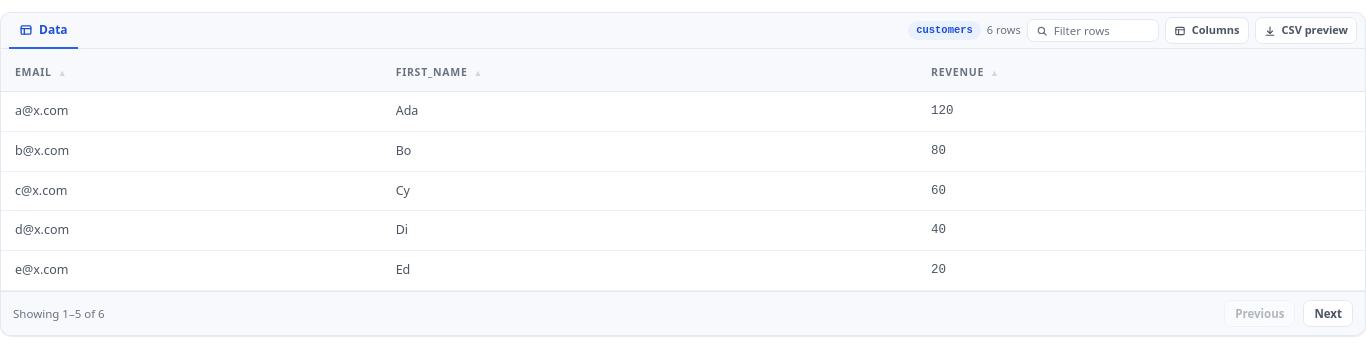
it: ResultCard › hides a column from the columns menu, and keeps the last one
What coordinates should you click on to do the following:
click the button "Columns"
I would click on:
 (1207, 31)
Its box is [1165,17,1249,44].
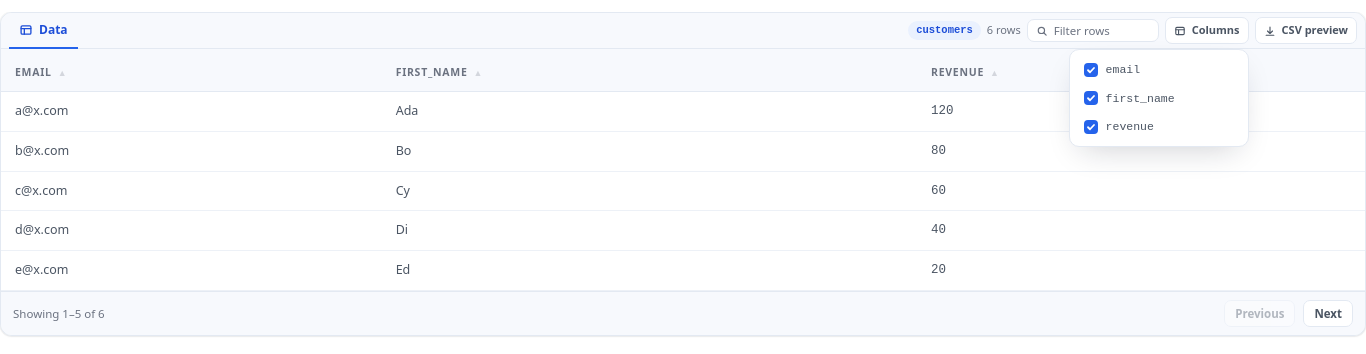
What coordinates should you click on to do the following:
click the button with aria-label "Hide email"
I would click on:
 (1159, 70)
Its box is [1076,56,1242,84].
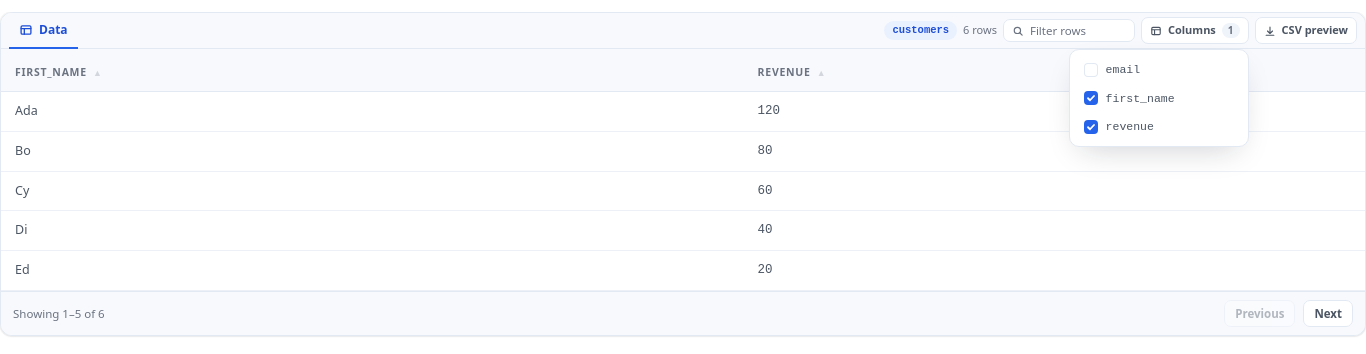
What coordinates should you click on to do the following:
click the button with aria-label "Hide first_name"
I would click on:
 (1159, 98)
Its box is [1076,85,1242,112].
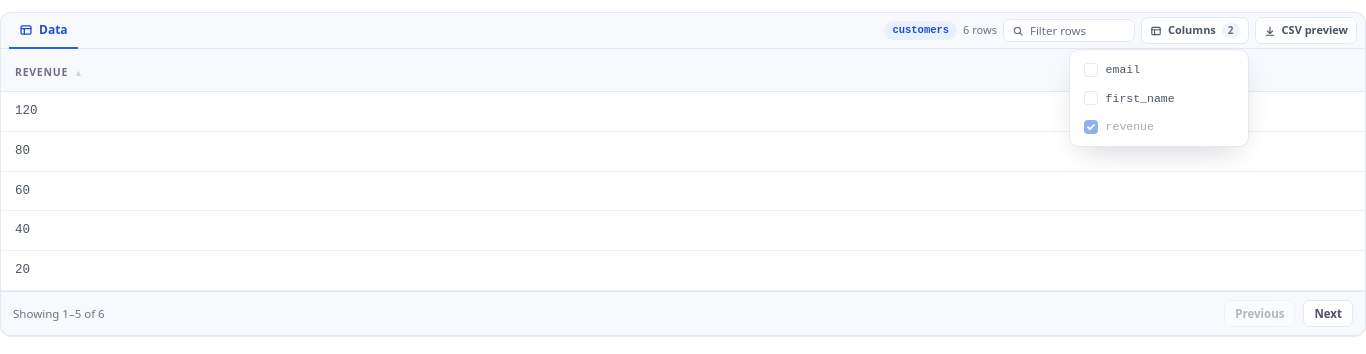
expect the button with aria-label "Hide revenue" is disabled: met, box [1076,113,1242,140]
